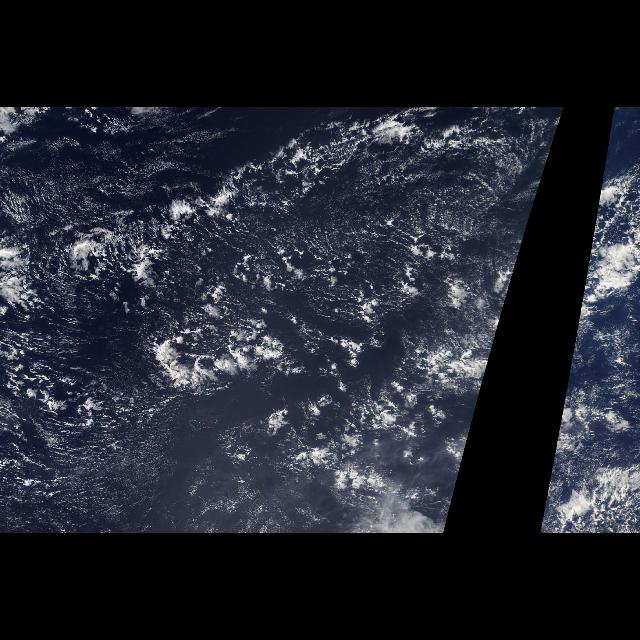Gravel: (7, 116, 507, 402)
Sugar: (9, 122, 494, 326), (7, 380, 184, 520)
